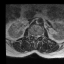CCS_normal: (35, 33, 36, 41)
LFS_normal: (38, 33, 41, 39)
LLS_normal: (36, 33, 38, 40)
RFS_stenosis: (31, 32, 33, 38)
RLS_normal: (33, 32, 35, 39)
